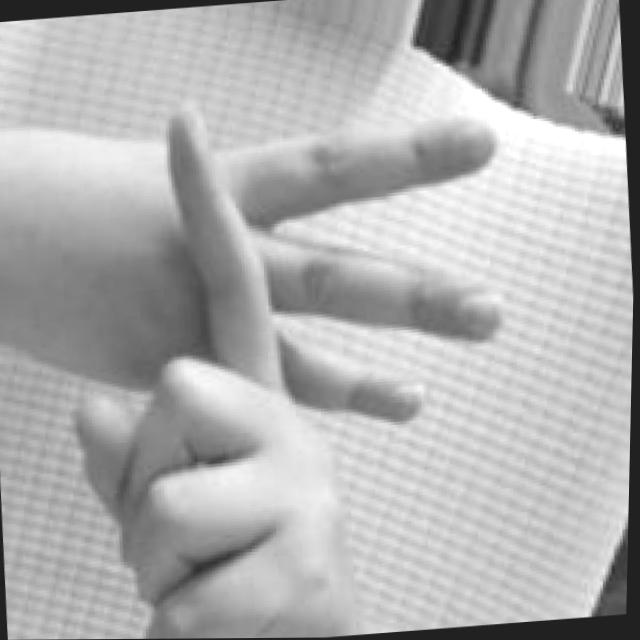E: (21, 74, 541, 640)
